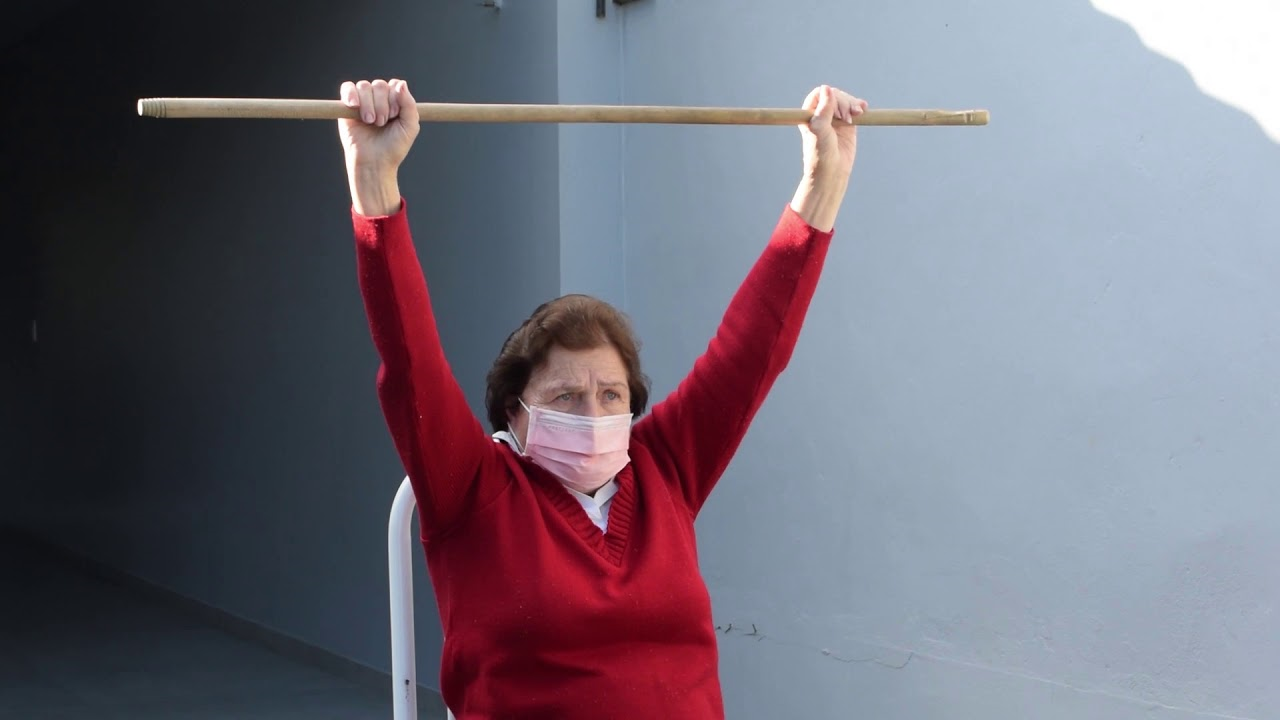with_mask: (512, 344, 644, 489)
